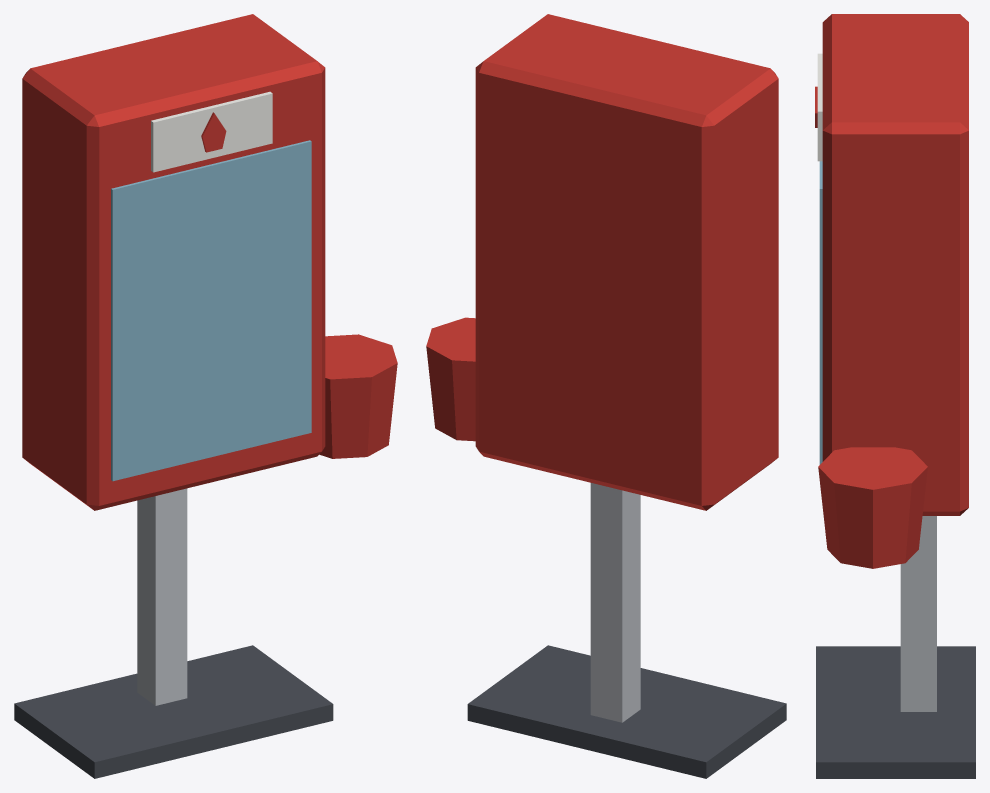
The model's file is Fire_Extinguisher_Post.glb.
3 views of the same model, side by side, from view 1: azimuth 30°, elevation 25°; view 2: azimuth 150°, elevation 25°; view 3: azimuth 270°, elevation 25° (orthographic).
Parts seen in each view (by area): view 1: Fire_Extinguisher_Post; view 2: Fire_Extinguisher_Post; view 3: Fire_Extinguisher_Post.
Part boxes in pixels (x1=…): Fire_Extinguisher_Post: x1=14, y1=14, x2=397, y2=778; Fire_Extinguisher_Post: x1=426, y1=14, x2=786, y2=778; Fire_Extinguisher_Post: x1=815, y1=14, x2=975, y2=778.
Bounding box in the file's own units: 0.82 × 1.58 × 0.352.
Materials: 1 (1 with a texture image).
